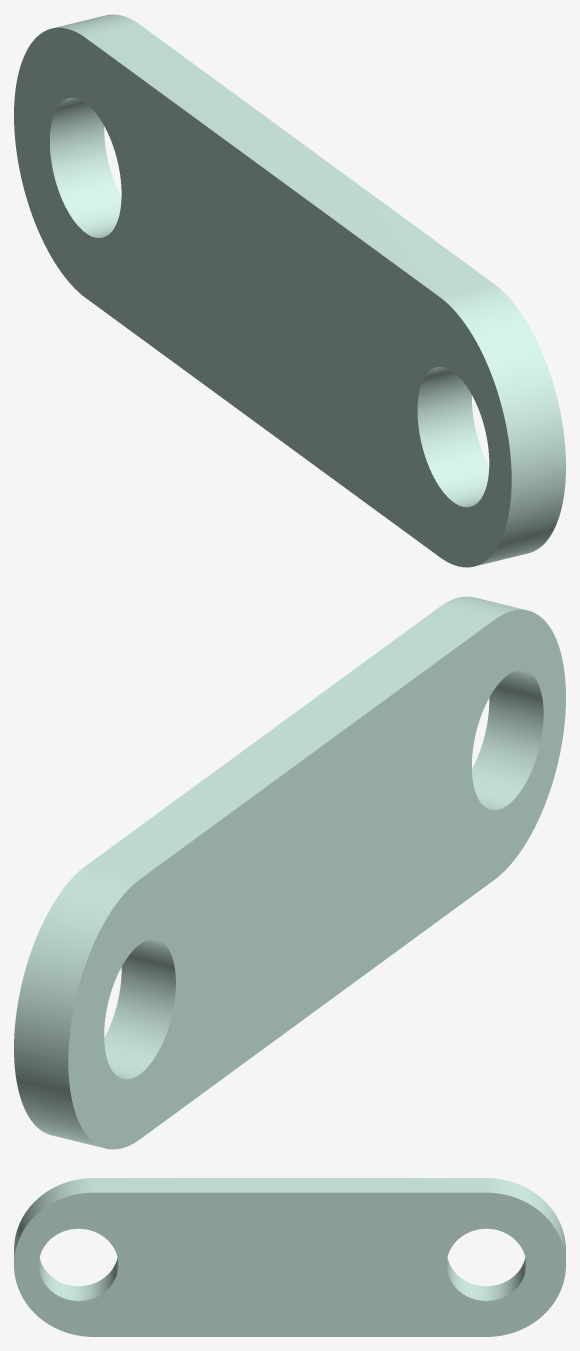
The picture shows the model from 3 angles, top to bottom: view 1: azimuth 30°, elevation 25°; view 2: azimuth 150°, elevation 25°; view 3: azimuth 270°, elevation 25°; orthographic projection. The views are drawn at different scales.
Visible parts, largest first — view 1: Renderer Node; view 2: Renderer Node; view 3: Renderer Node.
Boxes of the visible parts, x1=… form: Renderer Node: x1=14, y1=14, x2=565, y2=567; Renderer Node: x1=14, y1=596, x2=565, y2=1149; Renderer Node: x1=14, y1=1178, x2=565, y2=1336.
Bounding box in the file's own units: 0.0938 × 0.4289 × 1.49.
